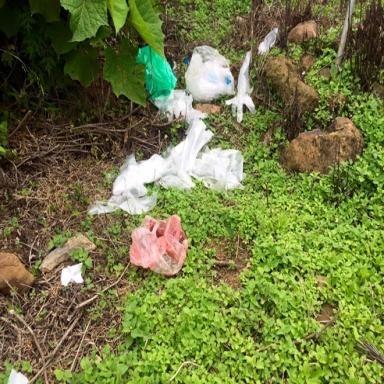plasticbag: (79, 118, 255, 216), (123, 204, 188, 280), (184, 43, 234, 99), (225, 50, 256, 122), (254, 24, 278, 56)
